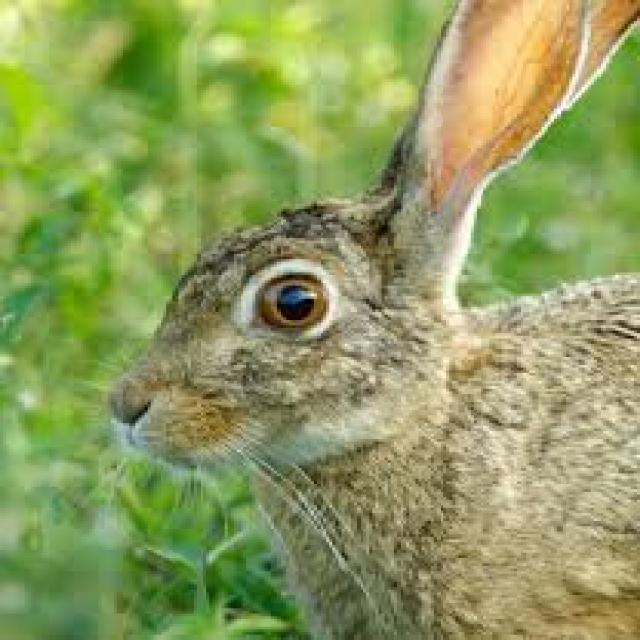Hare: (92, 0, 640, 640)
